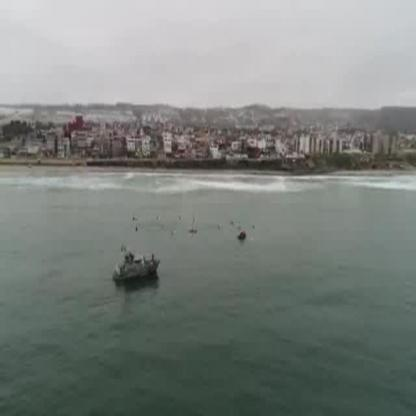Boat: (114, 245, 161, 292)
